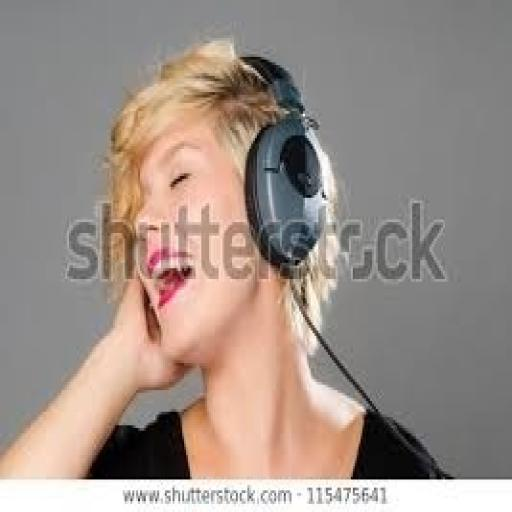listening_to_music: (0, 35, 454, 479)
